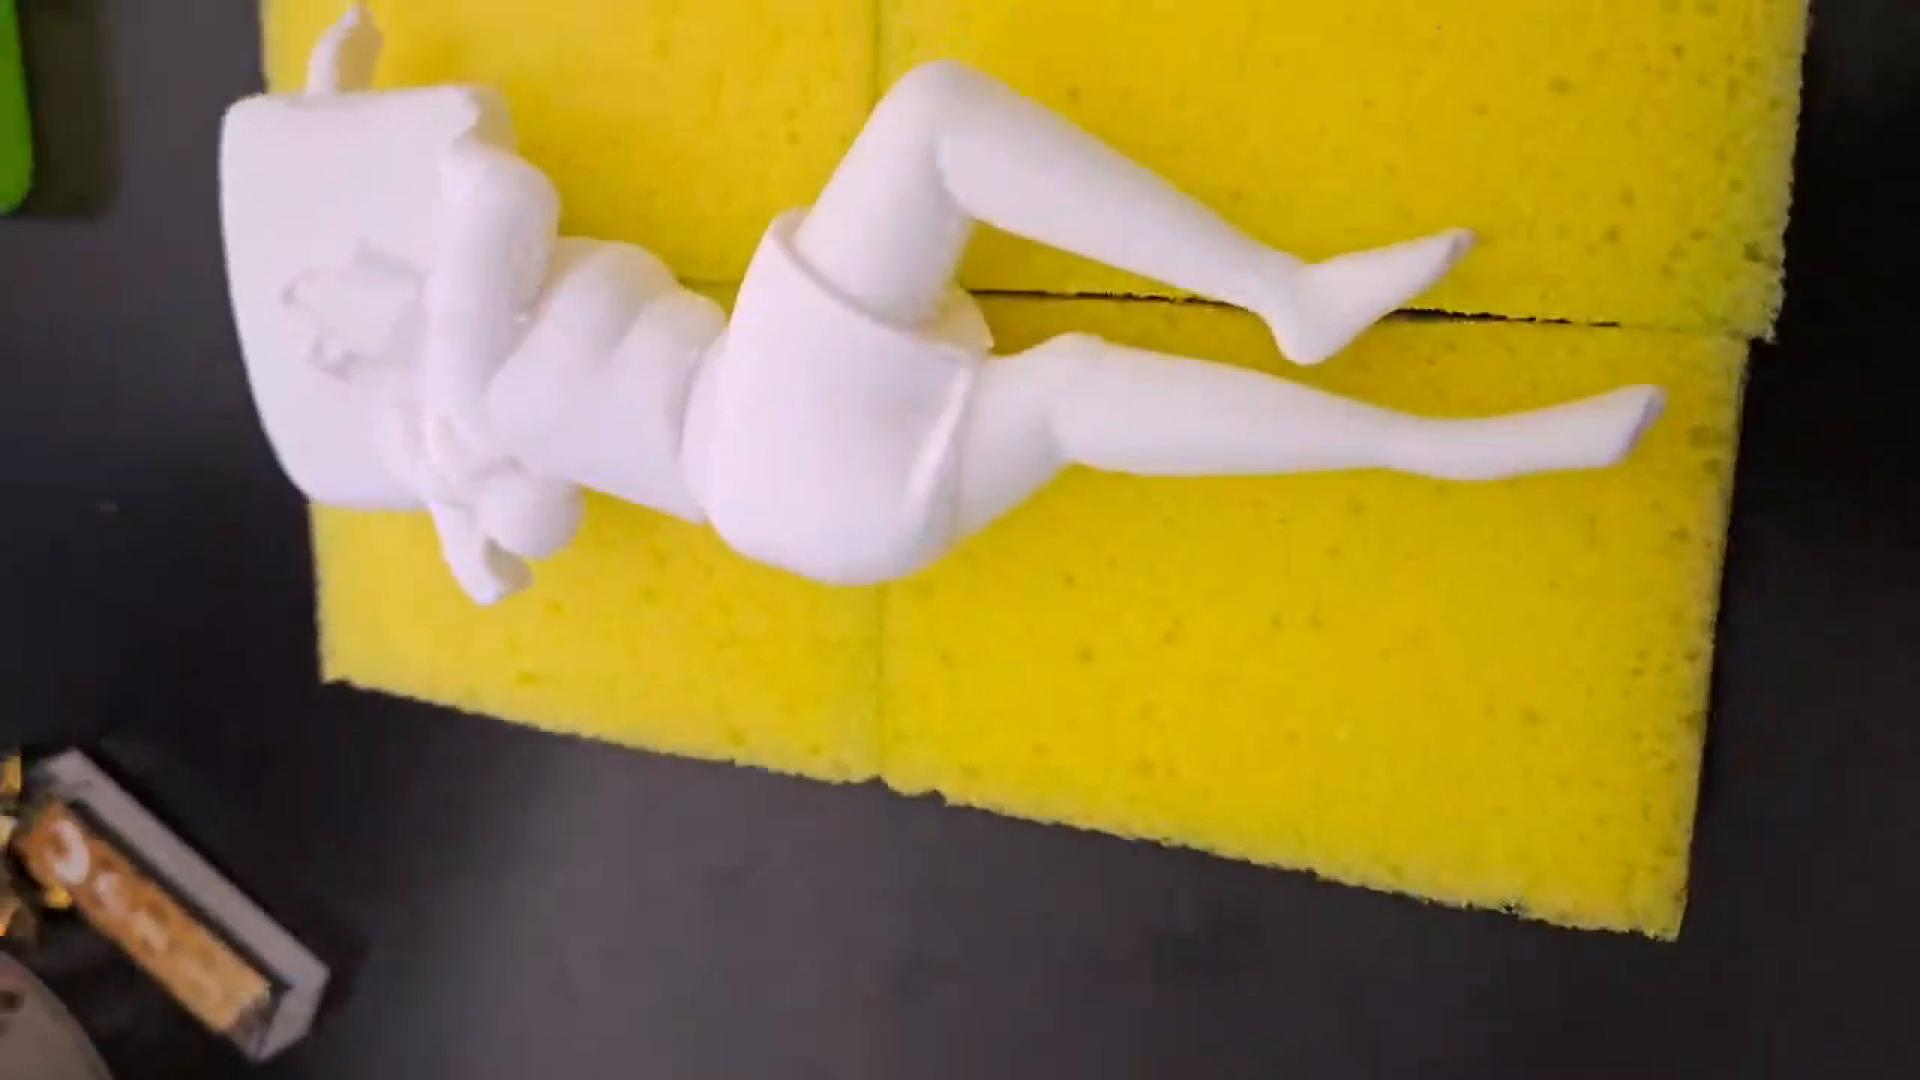Good-style: (211, 0, 1669, 621)
